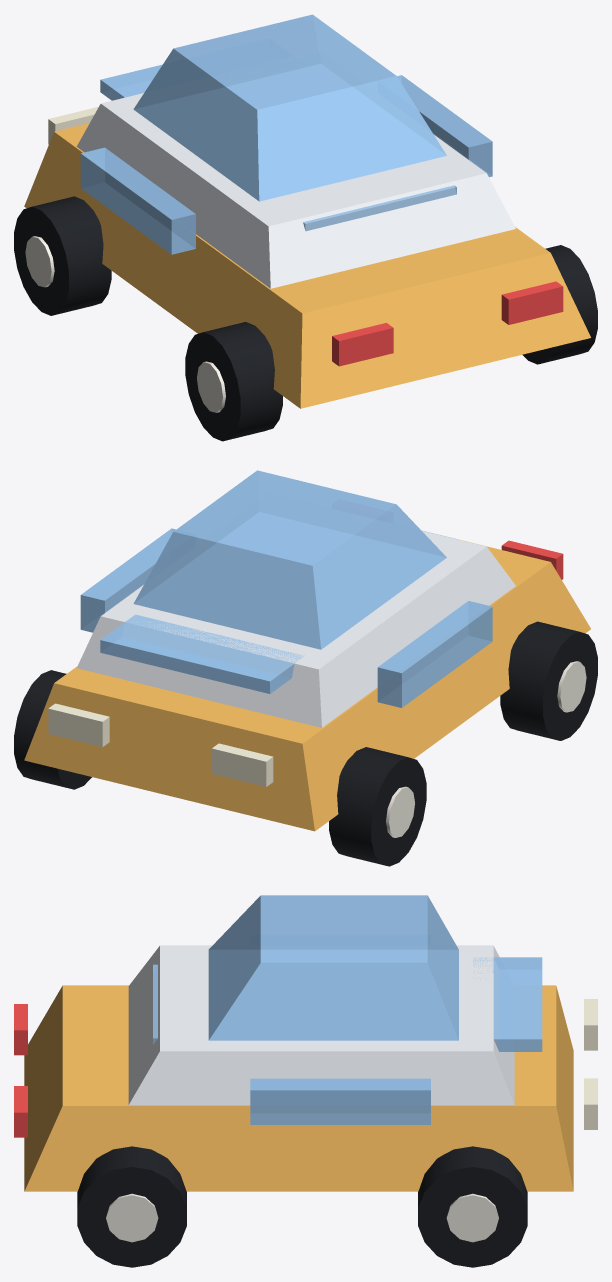
The model's file is car.gltf.
3 views of the same model, one above another, from view 1: azimuth 30°, elevation 25°; view 2: azimuth 150°, elevation 25°; view 3: azimuth 270°, elevation 25° (orthographic).
Visible parts, largest first — view 1: car; view 2: car; view 3: car.
Boxes of the visible parts, x1,y1,x2,y2 form: car: [14, 14, 597, 441]; car: [14, 470, 597, 866]; car: [14, 895, 597, 1267].
Bounding box in the file's own units: 1.2 × 0.8 × 1.68.
